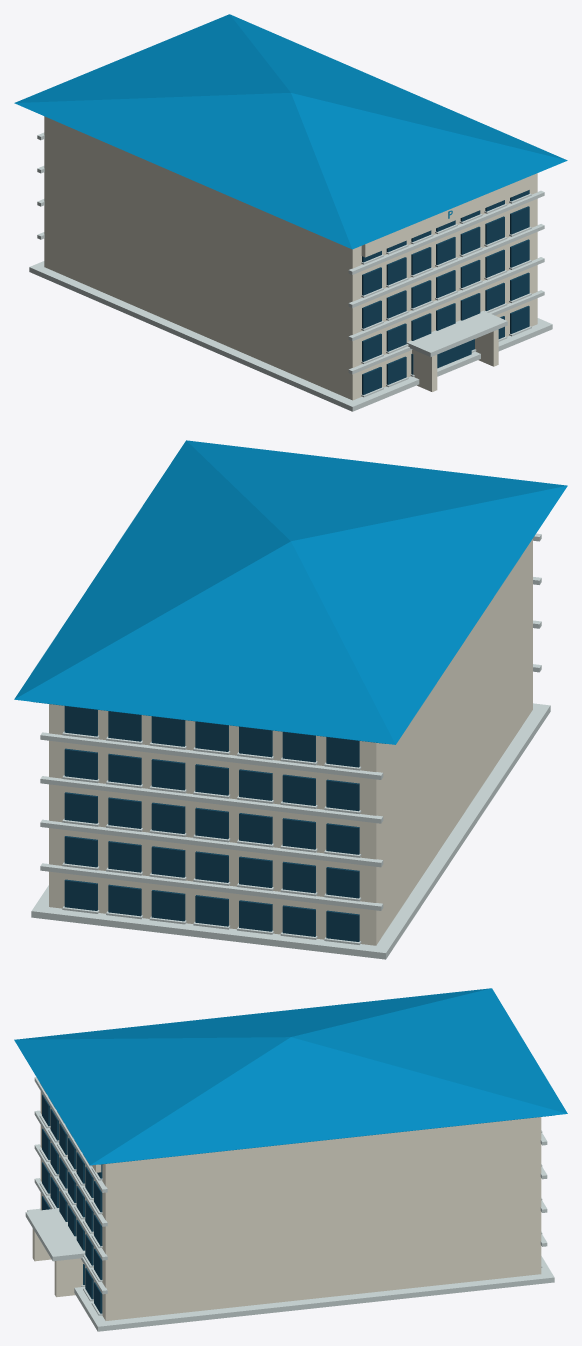
Rendered from asrama-putra.glb.
3 renders of one model, top to bottom at view 1: azimuth 30°, elevation 25°; view 2: azimuth 150°, elevation 25°; view 3: azimuth 270°, elevation 25°, orthographic. The views are drawn at different scales.
Visible parts, largest first — view 1: Asrama_Putra_blue, Asrama_Putra_ivory, Asrama_Putra_trim, Asrama_Putra_glass; view 2: Asrama_Putra_blue, Asrama_Putra_ivory, Asrama_Putra_glass, Asrama_Putra_trim; view 3: Asrama_Putra_ivory, Asrama_Putra_blue, Asrama_Putra_trim, Asrama_Putra_glass.
Boxes of the visible parts, left/top/right/bottom form: Asrama_Putra_blue: left=14, top=14, right=567, bottom=249; Asrama_Putra_ivory: left=44, top=116, right=537, bottom=400; Asrama_Putra_trim: left=29, top=132, right=552, bottom=411; Asrama_Putra_glass: left=362, top=190, right=529, bottom=394; Asrama_Putra_blue: left=14, top=440, right=567, bottom=744; Asrama_Putra_ivory: left=49, top=539, right=532, bottom=945; Asrama_Putra_glass: left=64, top=706, right=359, bottom=941; Asrama_Putra_trim: left=31, top=533, right=550, bottom=959; Asrama_Putra_ivory: left=32, top=1091, right=541, bottom=1320; Asrama_Putra_blue: left=14, top=988, right=567, bottom=1165; Asrama_Putra_trim: left=25, top=1077, right=554, bottom=1331; Asrama_Putra_glass: left=42, top=1094, right=102, bottom=1313.
Size of the model in its own units: 38.26 by 21.55 by 50.53.
